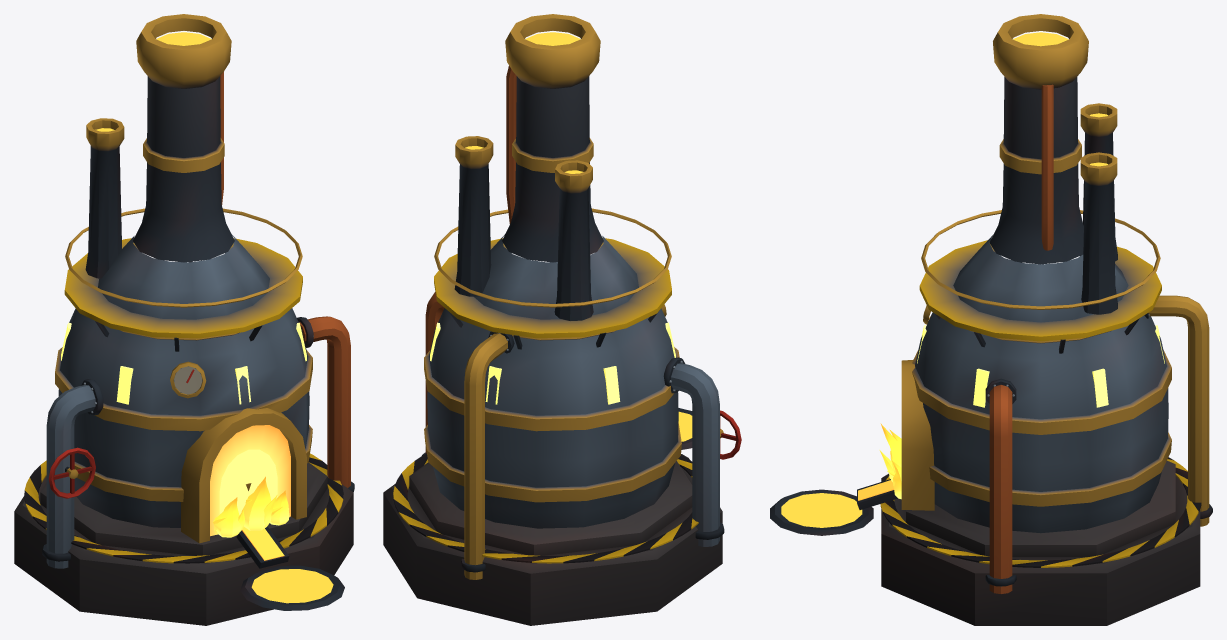
Rendered from great_furnace.glb.
3 views of the same model, side by side, from view 1: azimuth 30°, elevation 25°; view 2: azimuth 150°, elevation 25°; view 3: azimuth 270°, elevation 25° (orthographic).
Visible parts, largest first — view 1: great_furnace; view 2: great_furnace; view 3: great_furnace.
Part boxes in pixels (<box>): great_furnace: <box>14,14,354,625</box>; great_furnace: <box>383,14,741,625</box>; great_furnace: <box>770,14,1212,625</box>.
Size of the model in its own units: 10.9 by 17.5 by 13.34.
